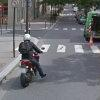Crosswalk: (39, 37, 100, 60)
